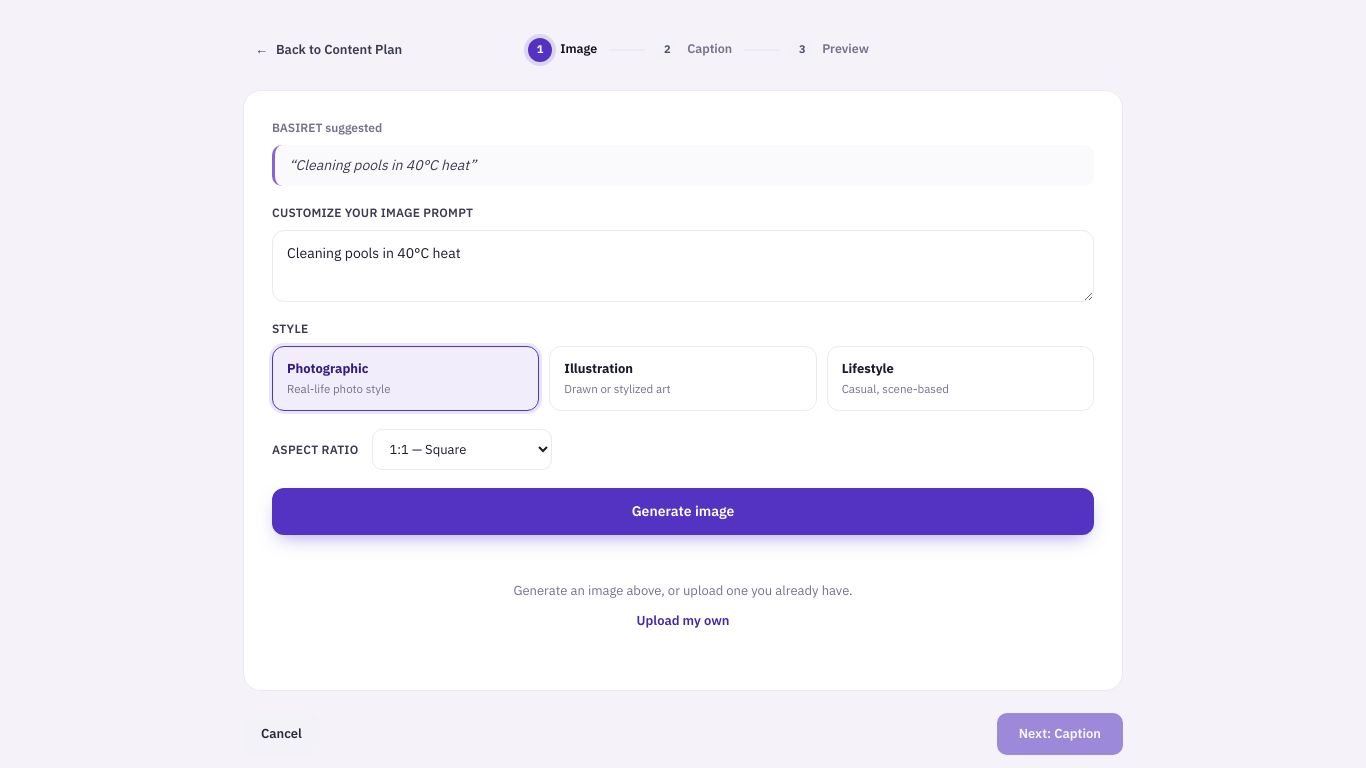
Test: WizardPreviewStep — three actions › Schedule is disabled when caption is empty
The width and height of the screenshot is (1366, 768).
Click the button with test id "image-generate" at x=683, y=512, box [272, 488, 1094, 535]
(page scrolled)
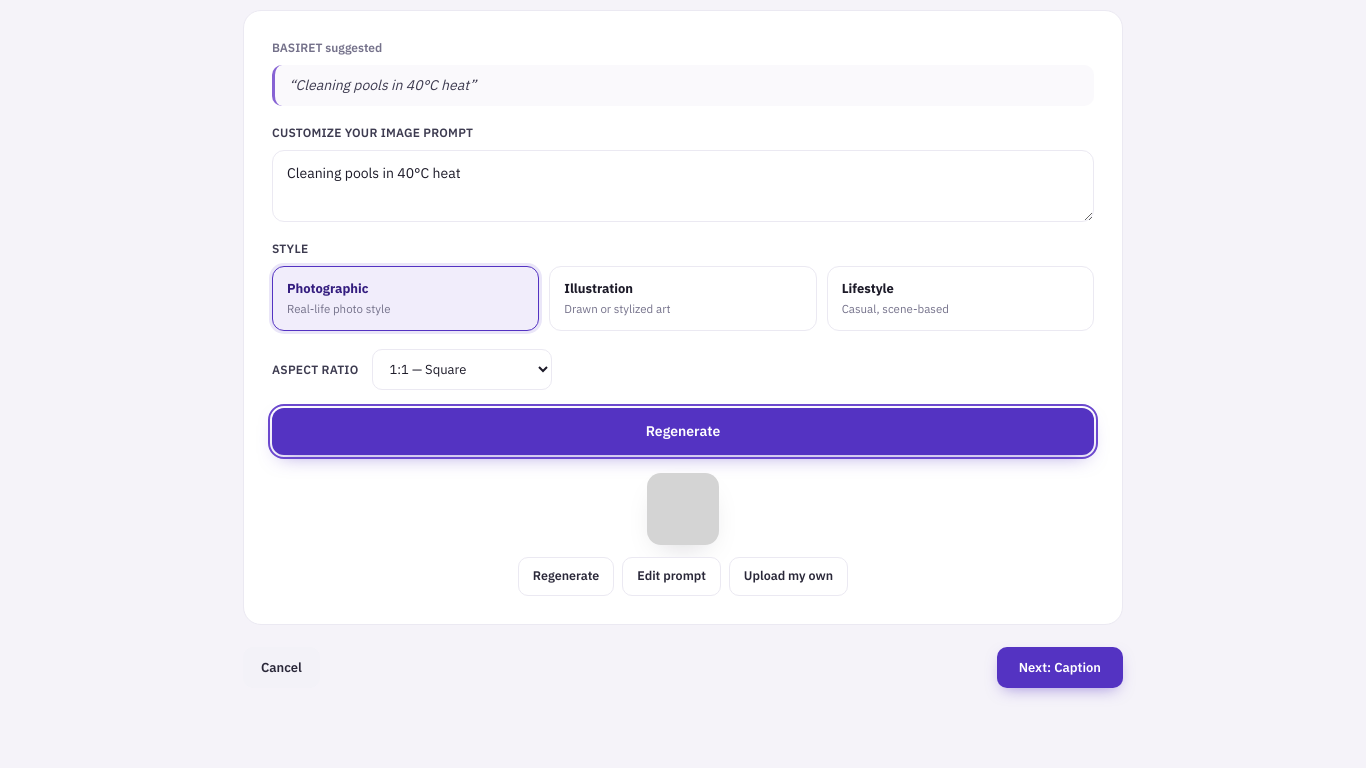
Click the button with test id "wizard-next" at x=1060, y=668, box [997, 647, 1123, 688]
(page scrolled)
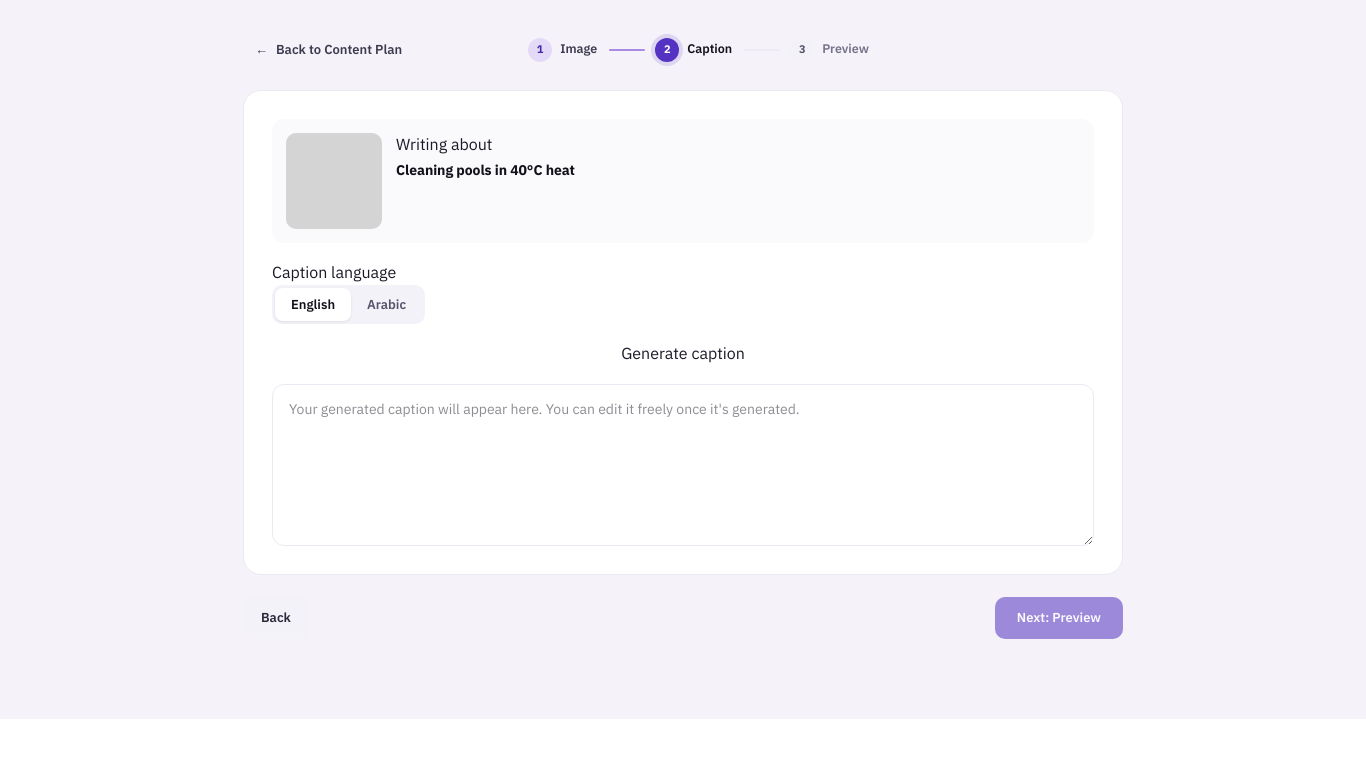
Click the button with test id "caption-generate" at x=683, y=354, box [272, 342, 1094, 366]
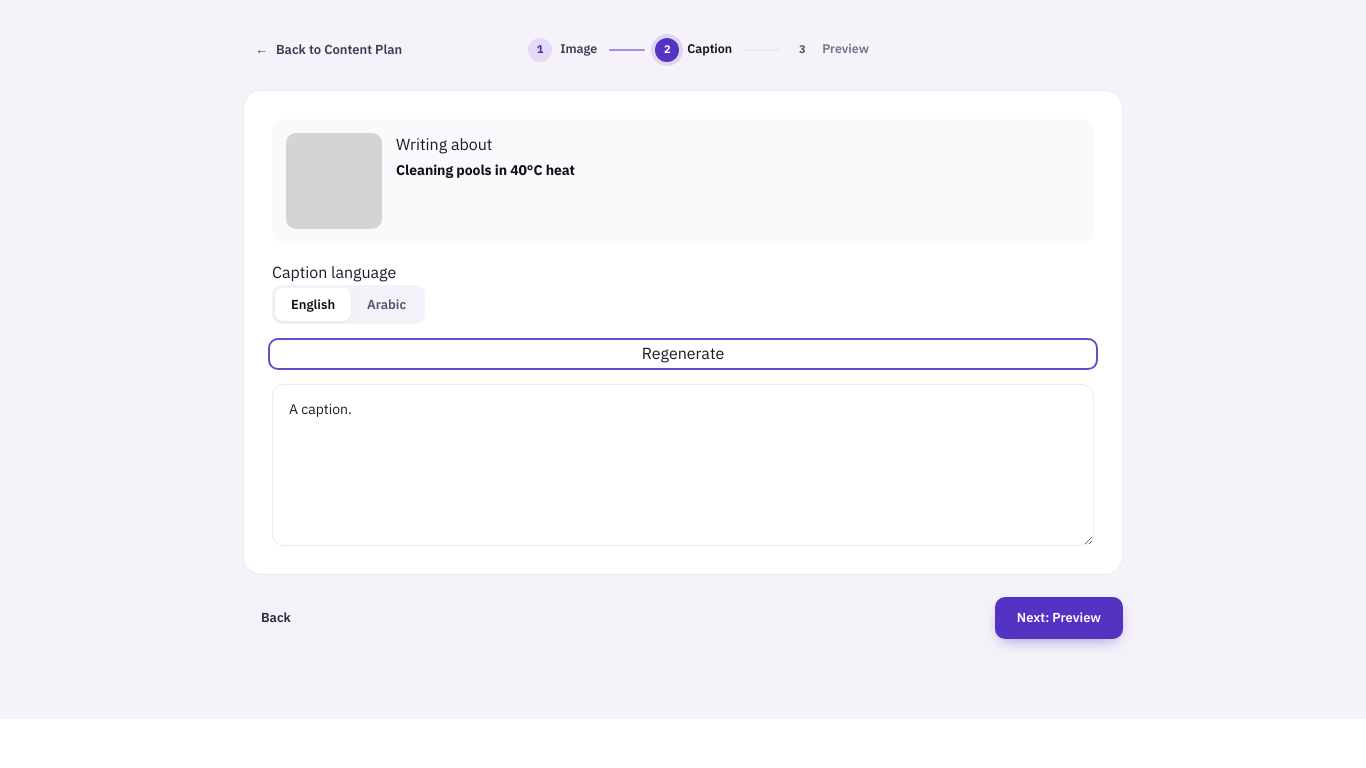
Click the button with test id "wizard-next" at x=1059, y=618, box [995, 597, 1123, 638]
(page scrolled)
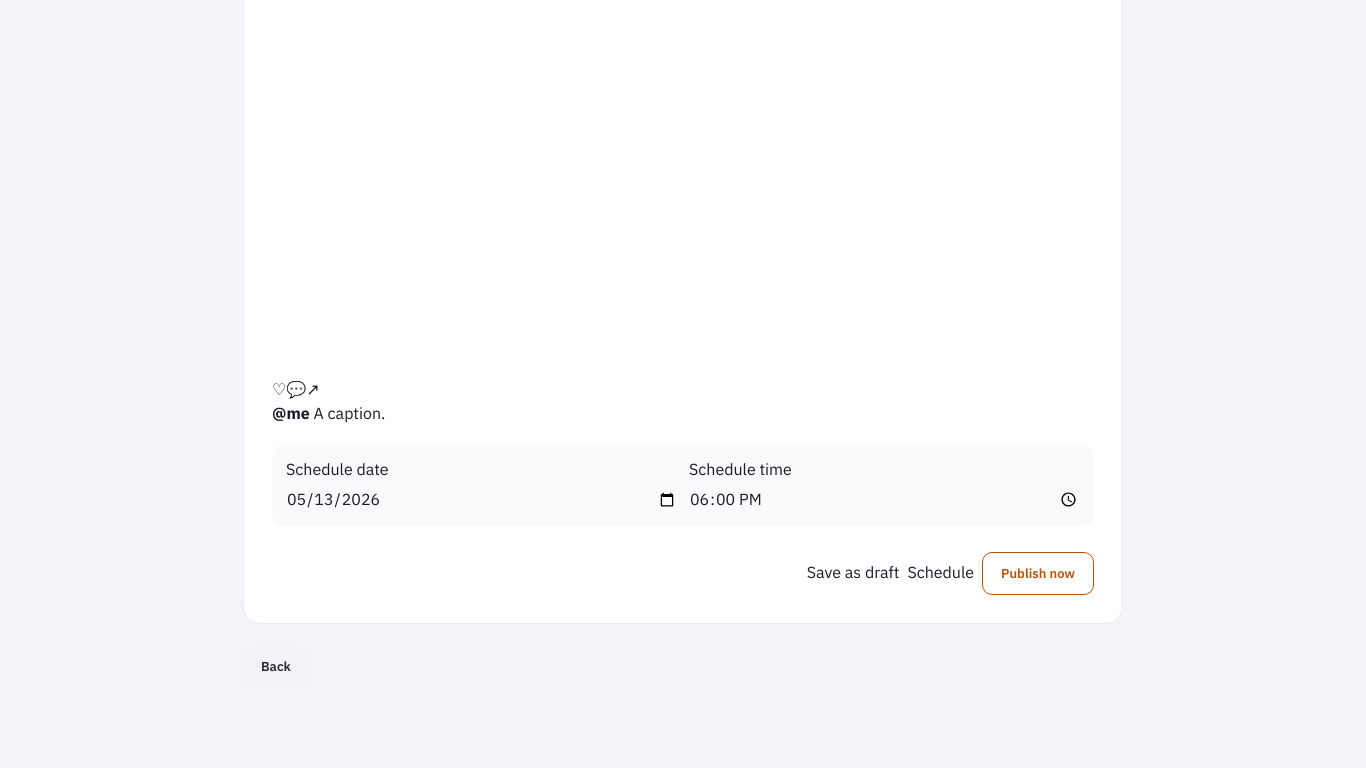
Click the button with test id "wizard-back" at x=276, y=667, box [243, 646, 309, 688]
(page scrolled)
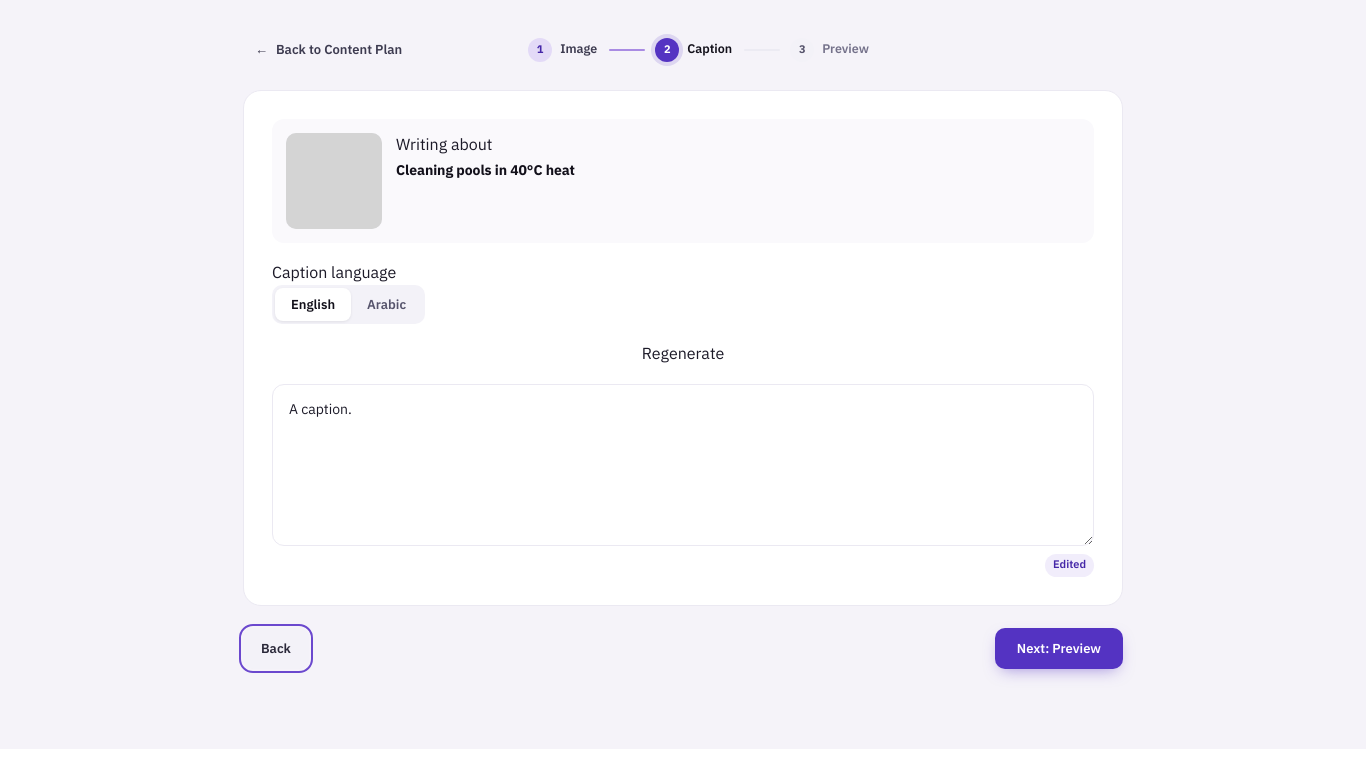
Clear the text box with test id "caption-textarea" at x=683, y=465, box [272, 384, 1094, 546]
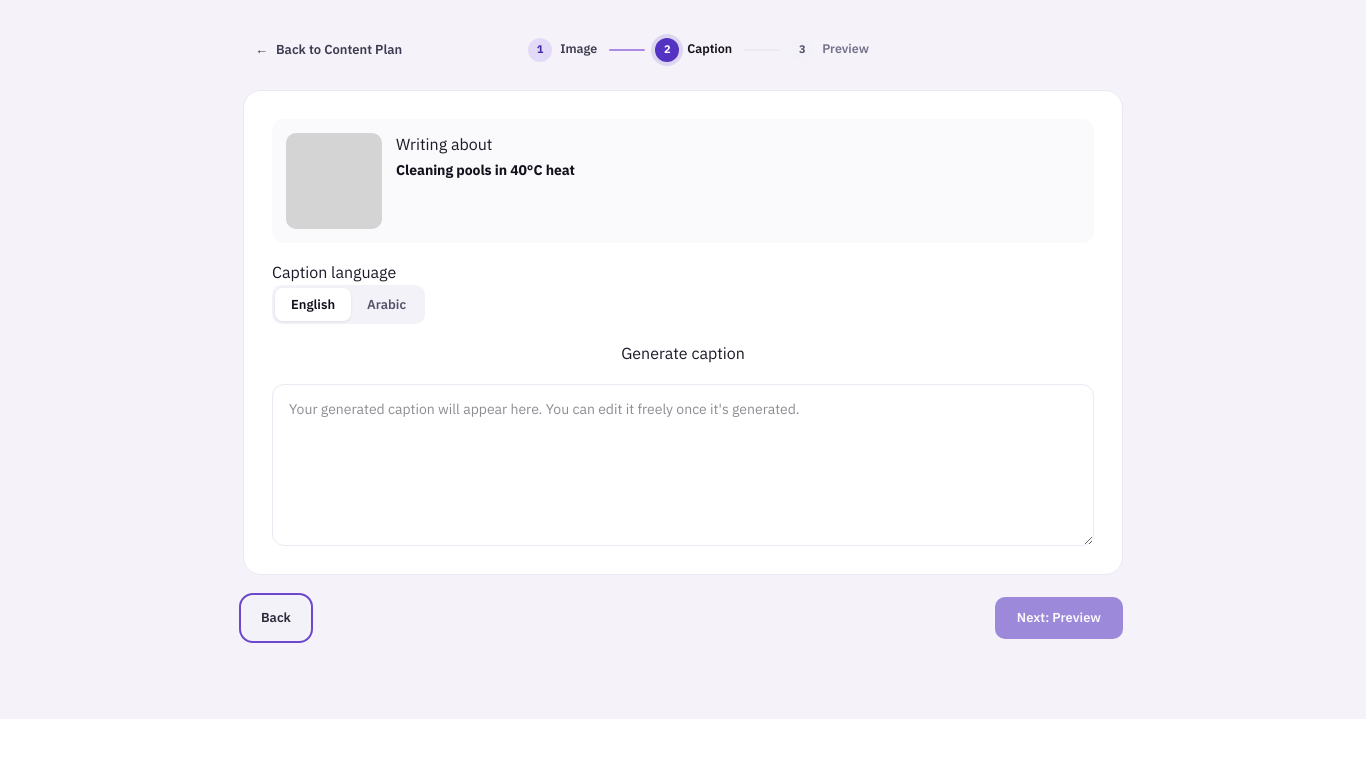
Expected: the button with test id "wizard-next" is disabled, [995, 597, 1123, 638]
